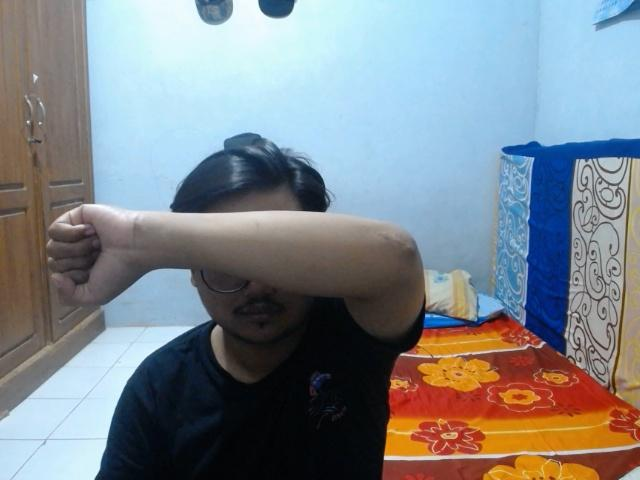Grab: (42, 196, 147, 314)
